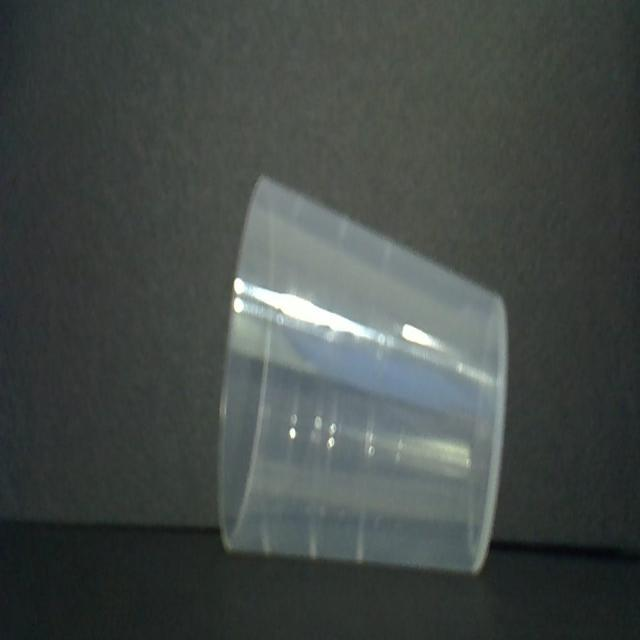cup: (214, 169, 511, 581)
